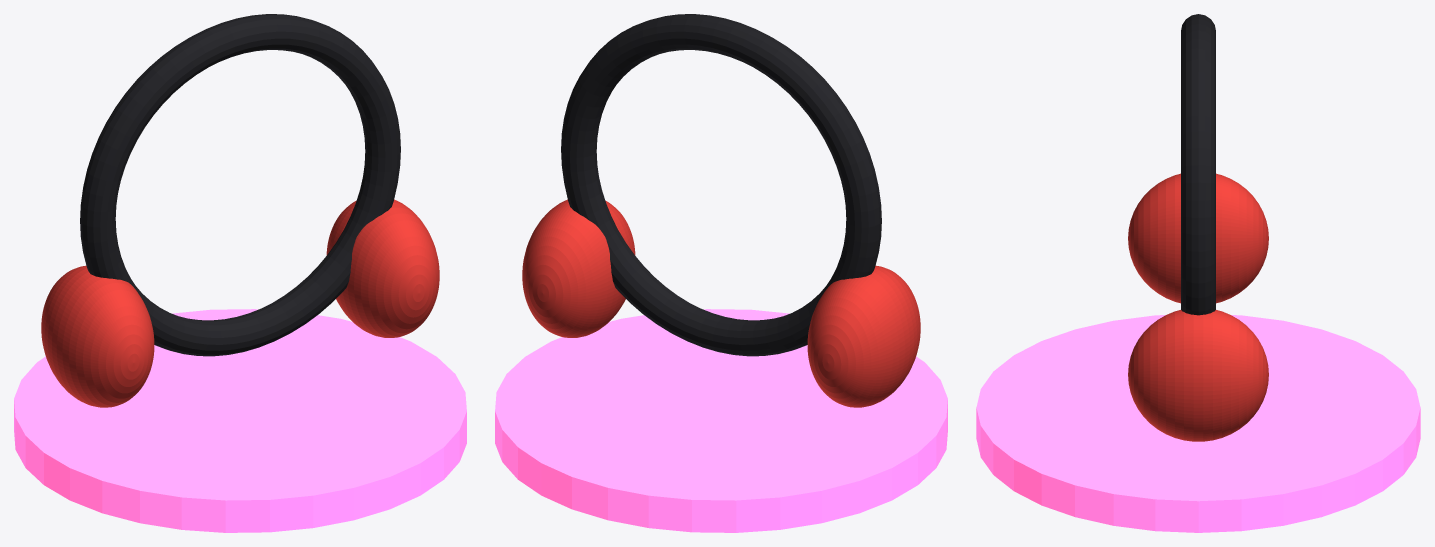
The model's file is music_headphones.glb.
The picture shows the model from 3 angles, left to right: view 1: azimuth 30°, elevation 25°; view 2: azimuth 150°, elevation 25°; view 3: azimuth 270°, elevation 25°; orthographic projection. The views are drawn at different scales.
Parts seen in each view (by area): view 1: 07_01_Popular_Music_Headphones_ROOT_base, 07_01_Popular_Music_Headphones_part_01, 07_01_Popular_Music_Headphones_part_02, 07_01_Popular_Music_Headphones_part_03; view 2: 07_01_Popular_Music_Headphones_ROOT_base, 07_01_Popular_Music_Headphones_part_01, 07_01_Popular_Music_Headphones_part_02, 07_01_Popular_Music_Headphones_part_03; view 3: 07_01_Popular_Music_Headphones_ROOT_base, 07_01_Popular_Music_Headphones_part_03, 07_01_Popular_Music_Headphones_part_01, 07_01_Popular_Music_Headphones_part_02.
Part boxes in pixels (box(x1,y1,x2,y2)): 07_01_Popular_Music_Headphones_ROOT_base: box(14, 309, 466, 532); 07_01_Popular_Music_Headphones_part_01: box(80, 14, 400, 356); 07_01_Popular_Music_Headphones_part_02: box(41, 265, 154, 407); 07_01_Popular_Music_Headphones_part_03: box(326, 199, 439, 337); 07_01_Popular_Music_Headphones_ROOT_base: box(495, 309, 947, 532); 07_01_Popular_Music_Headphones_part_01: box(561, 14, 881, 356); 07_01_Popular_Music_Headphones_part_02: box(807, 265, 920, 407); 07_01_Popular_Music_Headphones_part_03: box(522, 199, 635, 337); 07_01_Popular_Music_Headphones_ROOT_base: box(976, 315, 1420, 532); 07_01_Popular_Music_Headphones_part_03: box(1128, 310, 1268, 441); 07_01_Popular_Music_Headphones_part_01: box(1181, 14, 1215, 315); 07_01_Popular_Music_Headphones_part_02: box(1128, 173, 1268, 303).
Size of the model in its own units: 0.76 by 0.7717 by 0.76.
